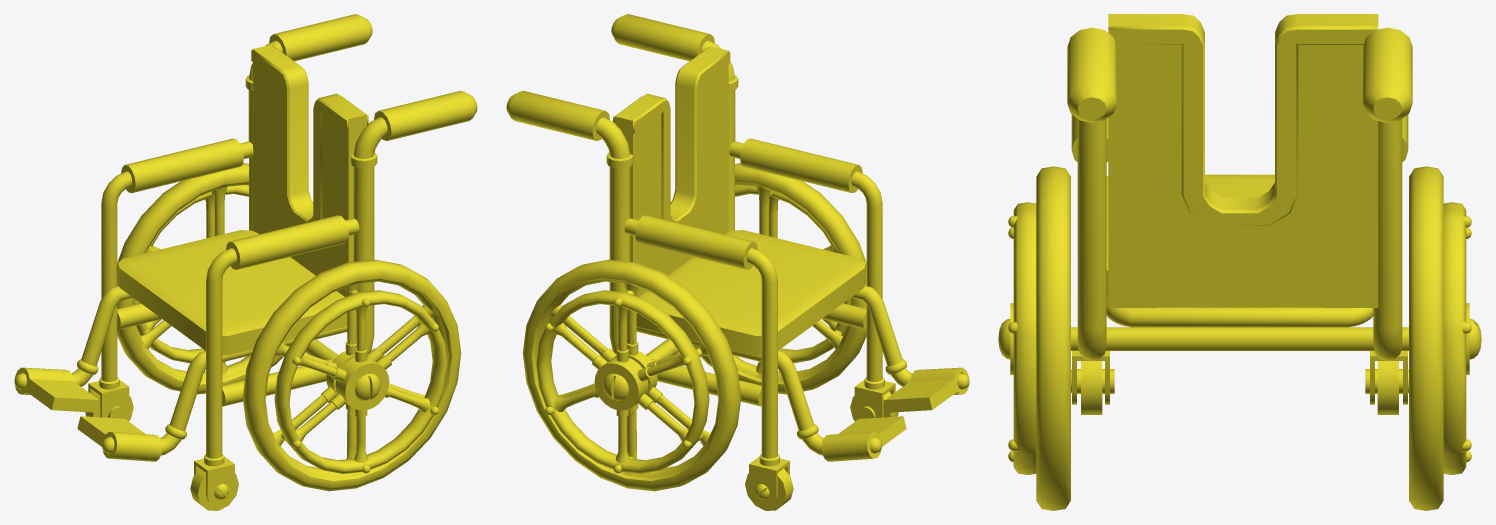
The model's file is wheel_chair.fbx.
3 renders of one model, left to right at view 1: azimuth 30°, elevation 25°; view 2: azimuth 150°, elevation 25°; view 3: azimuth 270°, elevation 25°, orthographic. The views are drawn at different scales.
Parts seen in each view (by area): view 1: chair_01, whell_01, whell_02; view 2: chair_01, whell_01, whell_02; view 3: chair_01, whell_01, whell_02.
Part boxes in pixels (box(x1,y1,x2,y2)): chair_01: box(14, 14, 477, 506); whell_01: box(117, 163, 461, 491); whell_02: box(85, 391, 238, 510); chair_01: box(506, 14, 969, 506); whell_01: box(522, 163, 866, 491); whell_02: box(745, 391, 898, 510); chair_01: box(998, 14, 1481, 404); whell_01: box(1008, 166, 1471, 510); whell_02: box(1081, 361, 1398, 414).
Size of the model in its own units: 616 by 579 by 507.
